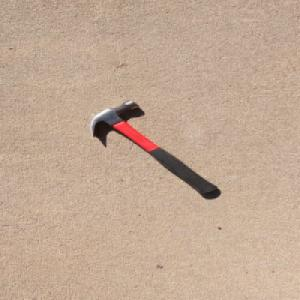Hammer: (86, 98, 220, 197)
